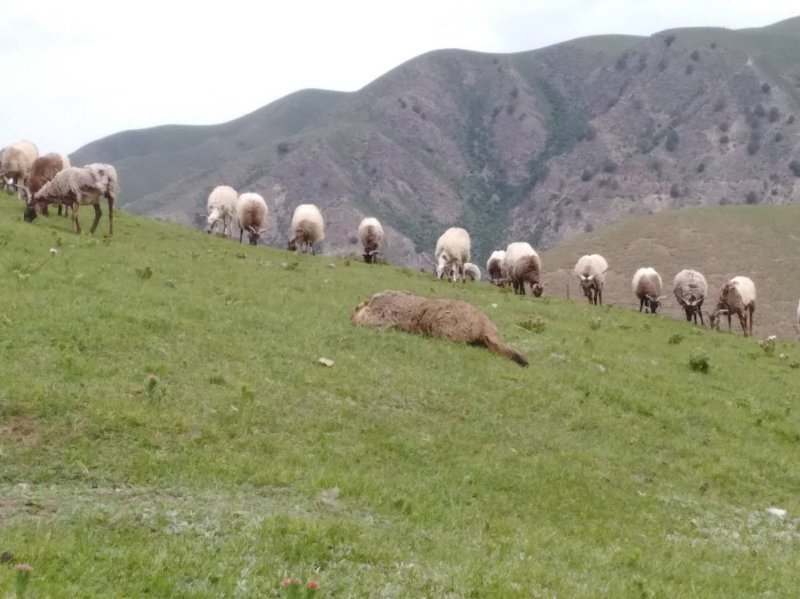sheep: (24, 167, 115, 245), (711, 272, 761, 334), (504, 239, 543, 310), (208, 183, 247, 253), (434, 228, 477, 287), (627, 264, 667, 323), (675, 269, 711, 330), (295, 202, 329, 254), (573, 252, 605, 304), (30, 152, 71, 192), (239, 192, 268, 242), (359, 219, 385, 273), (1, 144, 35, 178)
